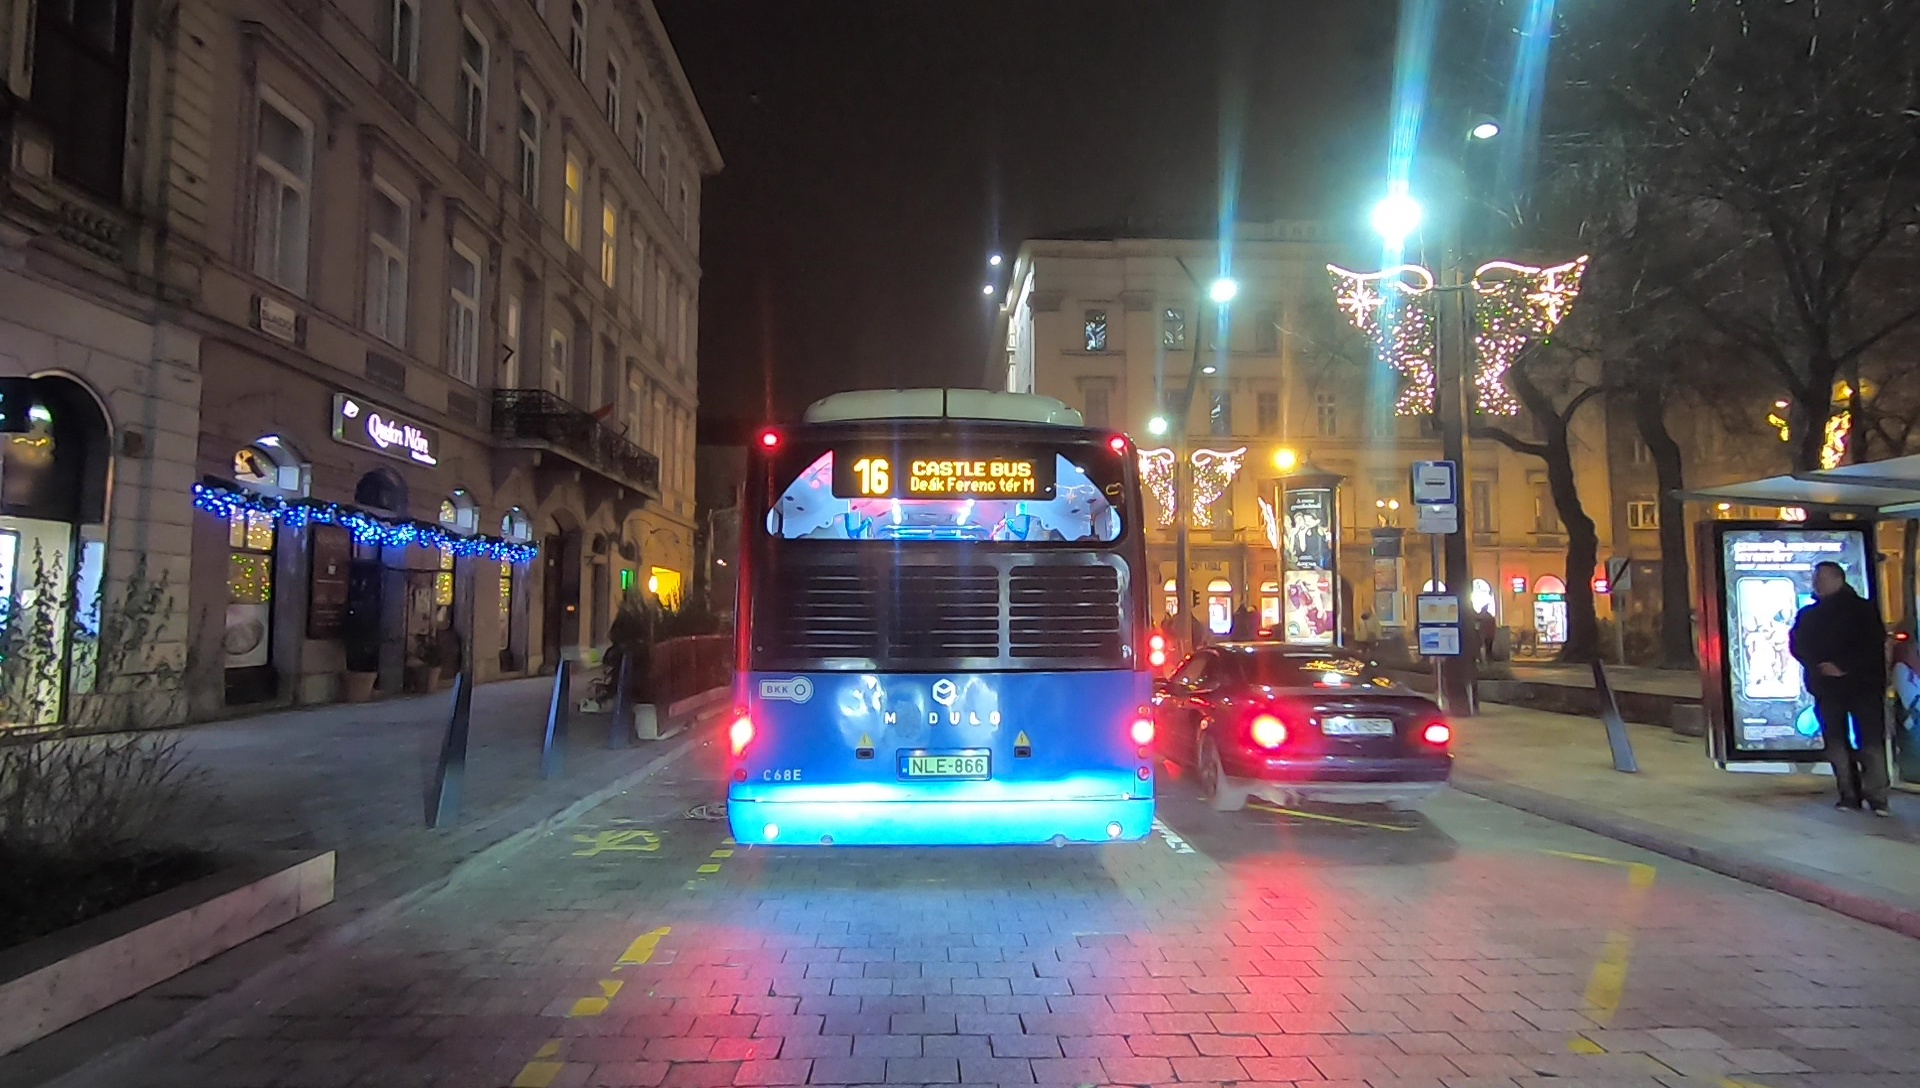person: (1797, 561, 1901, 823)
